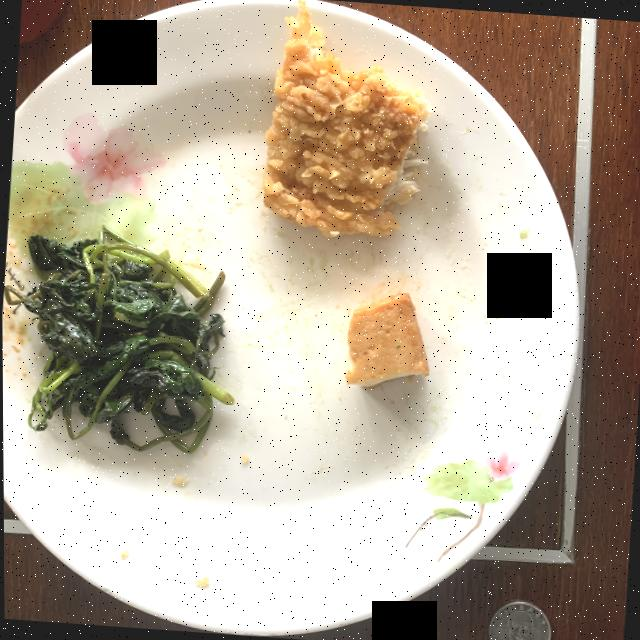coin: (487, 600, 550, 640)
creamy tofu: (345, 293, 429, 386)
fried chicken cutlet: (262, 0, 429, 237)
sweet potato leaves: (3, 227, 233, 453)
